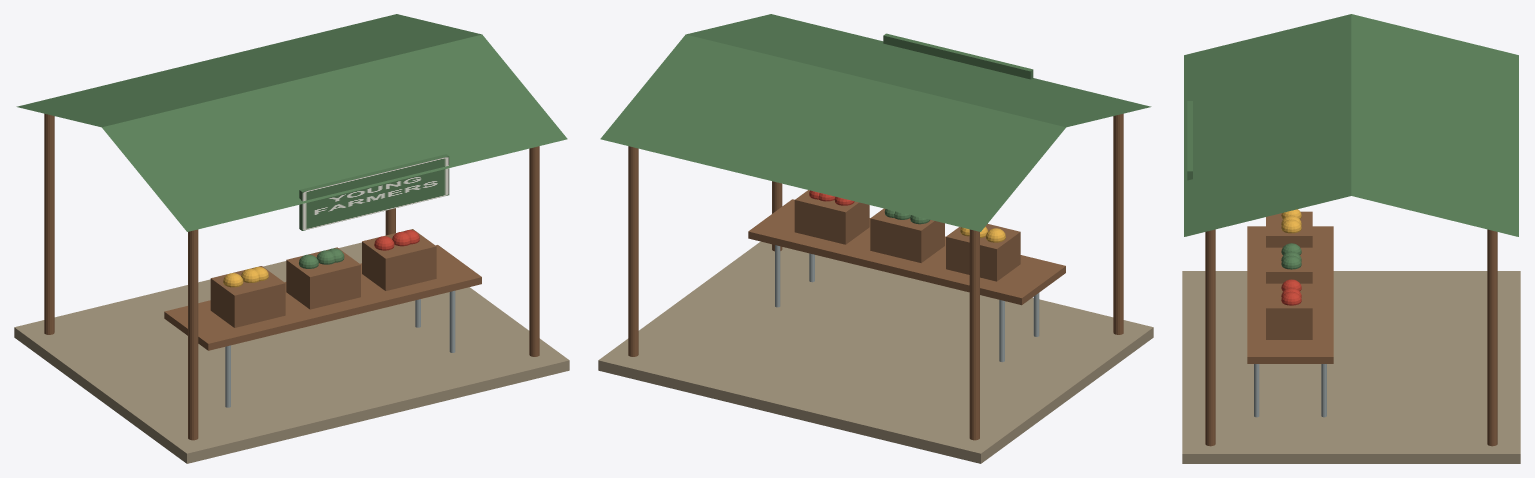
The model's file is scendance-plan-young-farmers-club.glb.
3 views of the same model, side by side, from view 1: azimuth 30°, elevation 25°; view 2: azimuth 150°, elevation 25°; view 3: azimuth 270°, elevation 25° (orthographic). The views are drawn at different scales.
Size of the model in its own units: 3.9 by 2.66 by 3.05.
7 materials, 1 textured.
